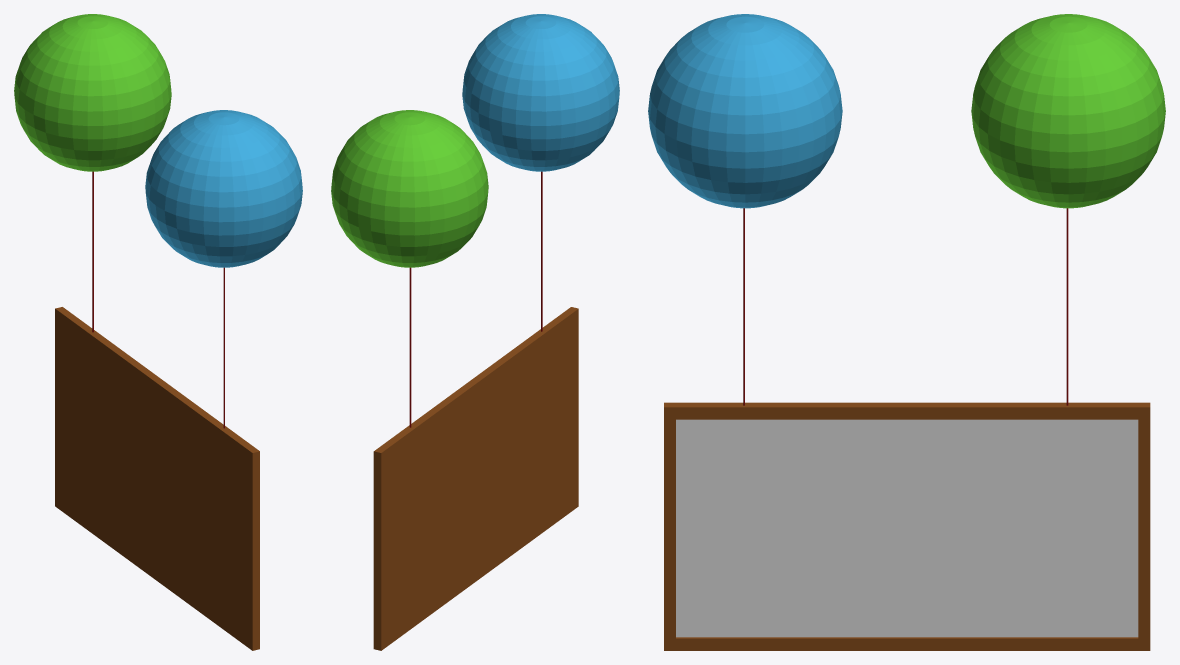
The model's file is floatingbanner.dae.
3 views of the same model, side by side, from view 1: azimuth 30°, elevation 25°; view 2: azimuth 150°, elevation 25°; view 3: azimuth 270°, elevation 25° (orthographic). The views are drawn at different scales.
Parts seen in each view (by area): view 1: Cube, Sphere_001, Sphere; view 2: Cube, Sphere, Sphere_001, Cylinder_001; view 3: Cube, Sphere, Sphere_001.
Boxes of the visible parts, bbox=[...] form: Cube: bbox=[55, 307, 259, 650]; Sphere_001: bbox=[14, 14, 171, 171]; Sphere: bbox=[145, 110, 302, 267]; Cube: bbox=[373, 307, 578, 650]; Sphere: bbox=[462, 14, 619, 171]; Sphere_001: bbox=[331, 110, 488, 267]; Cylinder_001: bbox=[409, 267, 411, 427]; Cube: bbox=[664, 402, 1150, 650]; Sphere: bbox=[648, 14, 842, 208]; Sphere_001: bbox=[971, 14, 1165, 208].
Size of the model in its own units: 1.12 by 2.98 by 3.98.
